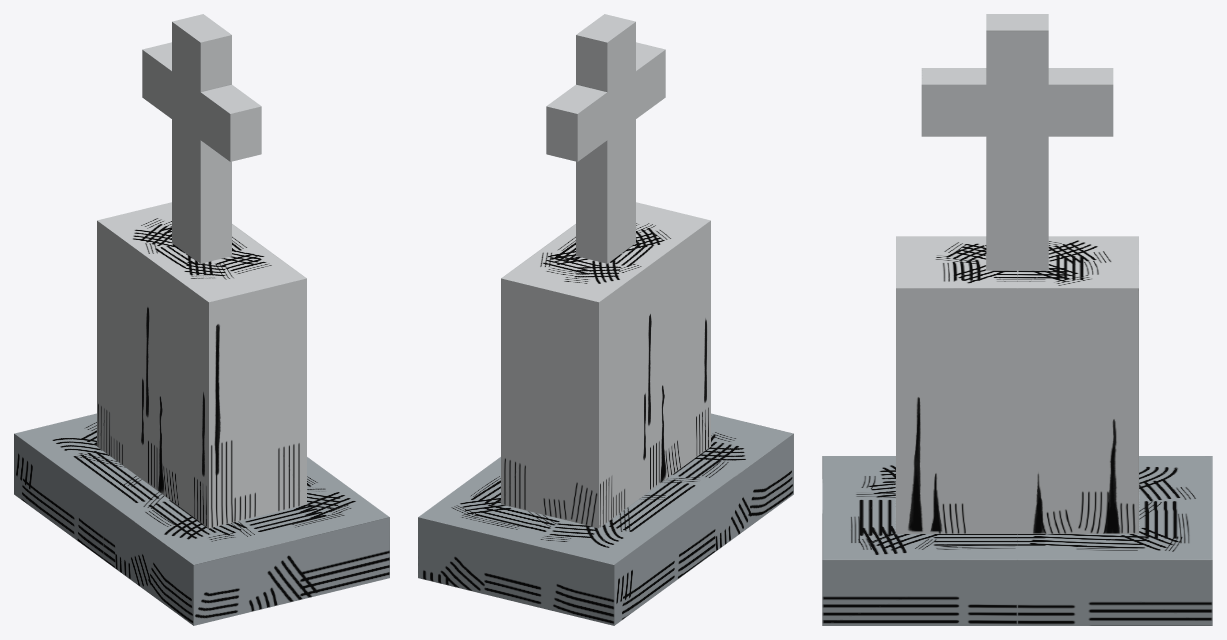
The model's file is 十字墓碑.fbx.
3 renders of one model, left to right at view 1: azimuth 30°, elevation 25°; view 2: azimuth 150°, elevation 25°; view 3: azimuth 270°, elevation 25°, orthographic. The views are drawn at different scales.
Visible parts, largest first — view 1: 立方体.001; view 2: 立方体.001; view 3: 立方体.001.
Boxes of the visible parts, <box> form: 立方体.001: <box>14,14,389,625</box>; 立方体.001: <box>418,14,793,625</box>; 立方体.001: <box>822,14,1212,625</box>.
Size of the model in its own units: 214 by 530 by 340.
Materials: 1 (1 with a texture image).
